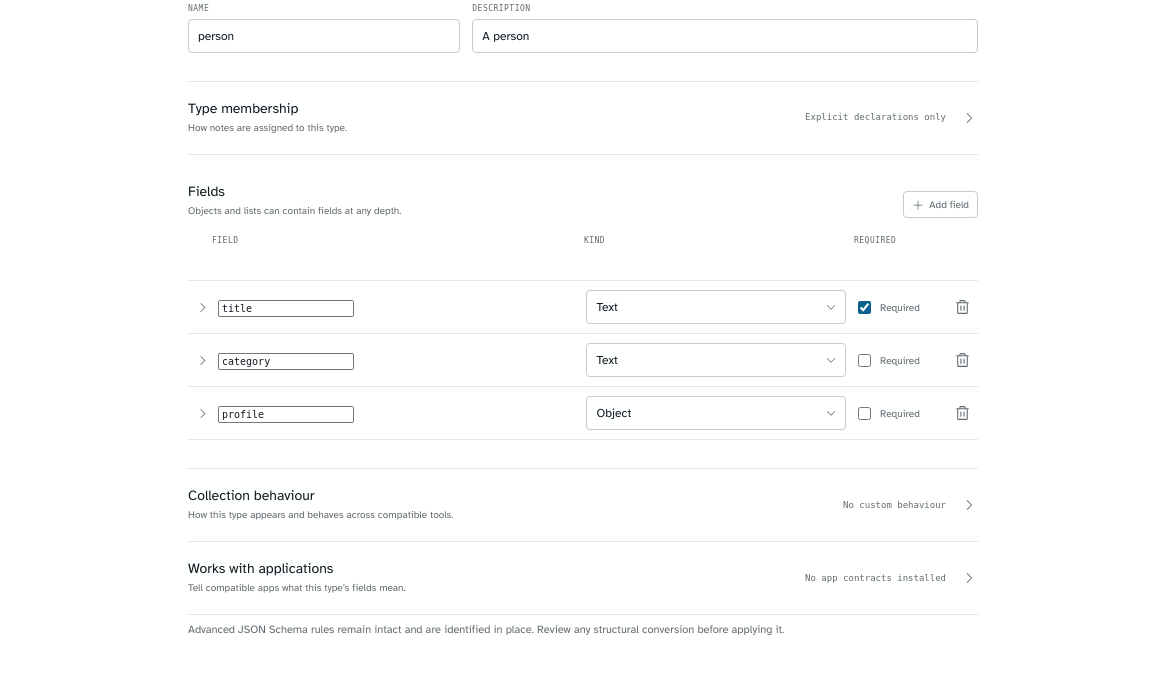
Scenario: recursive type builder › keeps a single field branch active while preserving its ancestors
The image size is (1164, 700).
(page scrolled)
Click the button named "Expand category field". click: [200, 360]
box: left=190, top=346, right=210, bottom=374
(page scrolled)
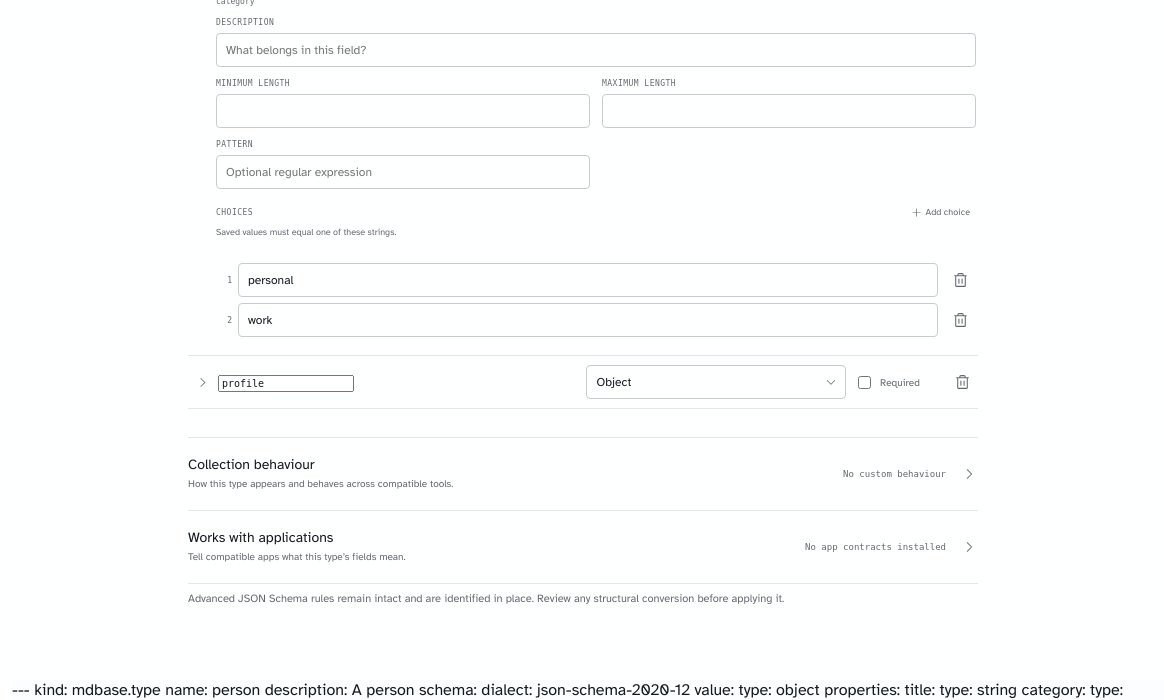
Click the button named "Expand profile field". click: [200, 382]
box: left=190, top=368, right=210, bottom=396
(page scrolled)
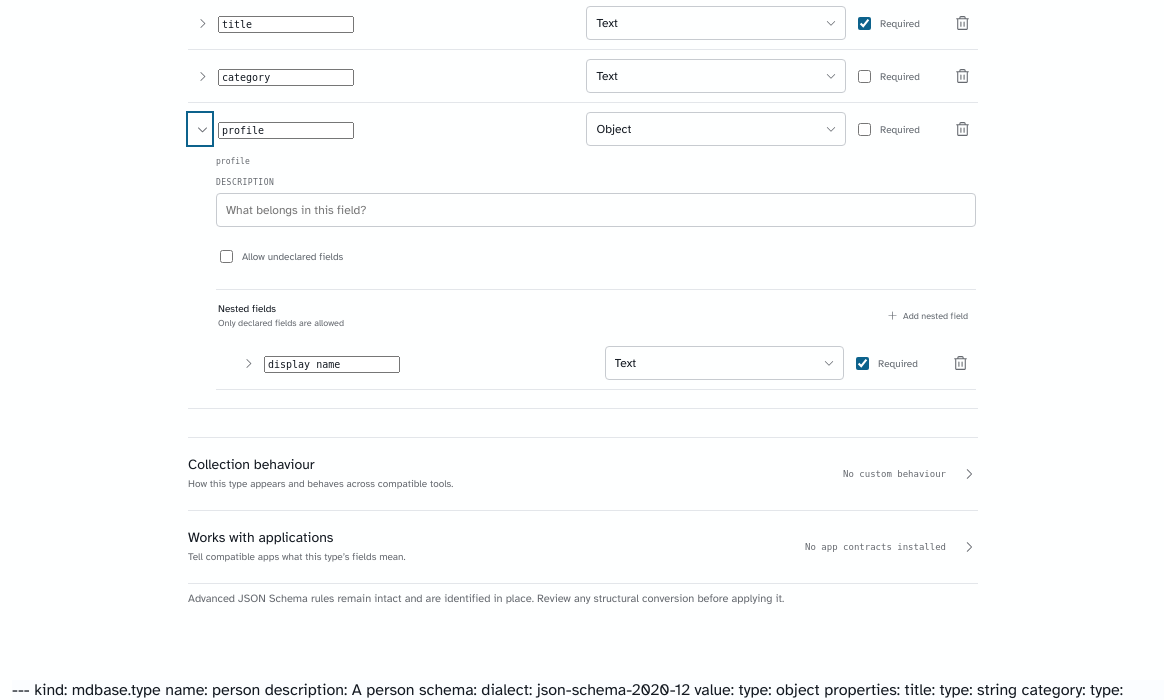
Result: the button named "Expand category field" is collapsed at left=190, top=62, right=210, bottom=90
Result: the button named "Expand profile field" is expanded at left=190, top=115, right=210, bottom=143
Click the button named "Expand profile.display_name field". click: [246, 363]
box: left=236, top=349, right=256, bottom=377
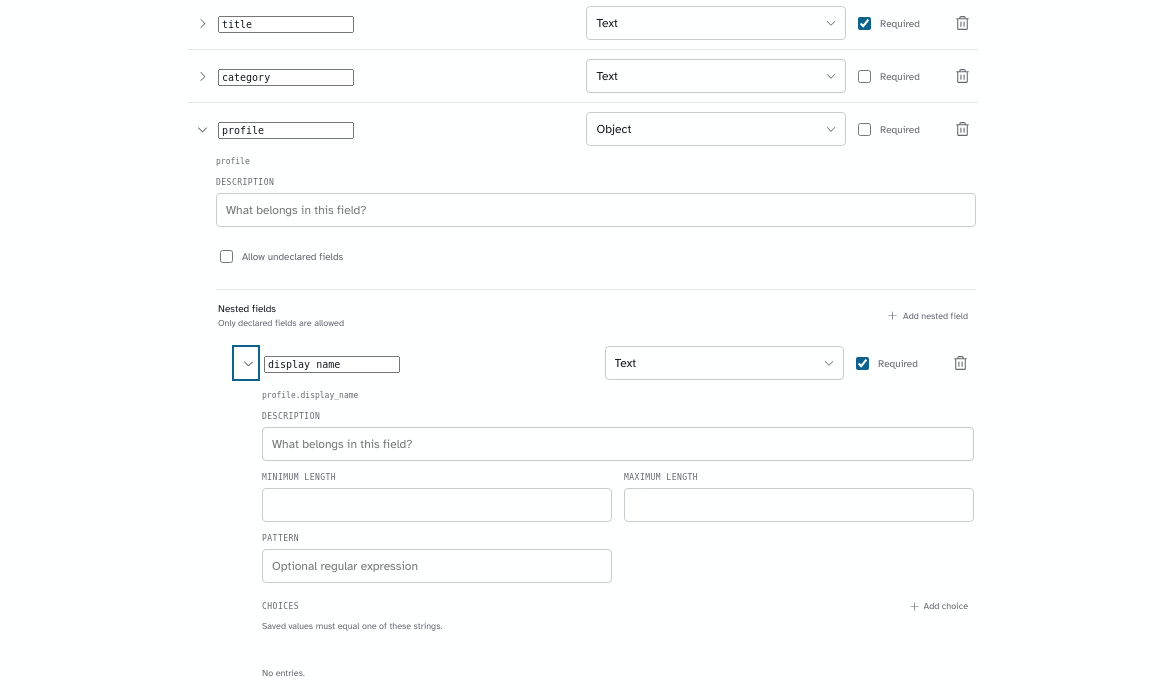
Result: the button named "Expand profile field" is expanded at left=190, top=115, right=210, bottom=143
Result: the button named "Expand profile.display_name field" is expanded at left=236, top=349, right=256, bottom=377
